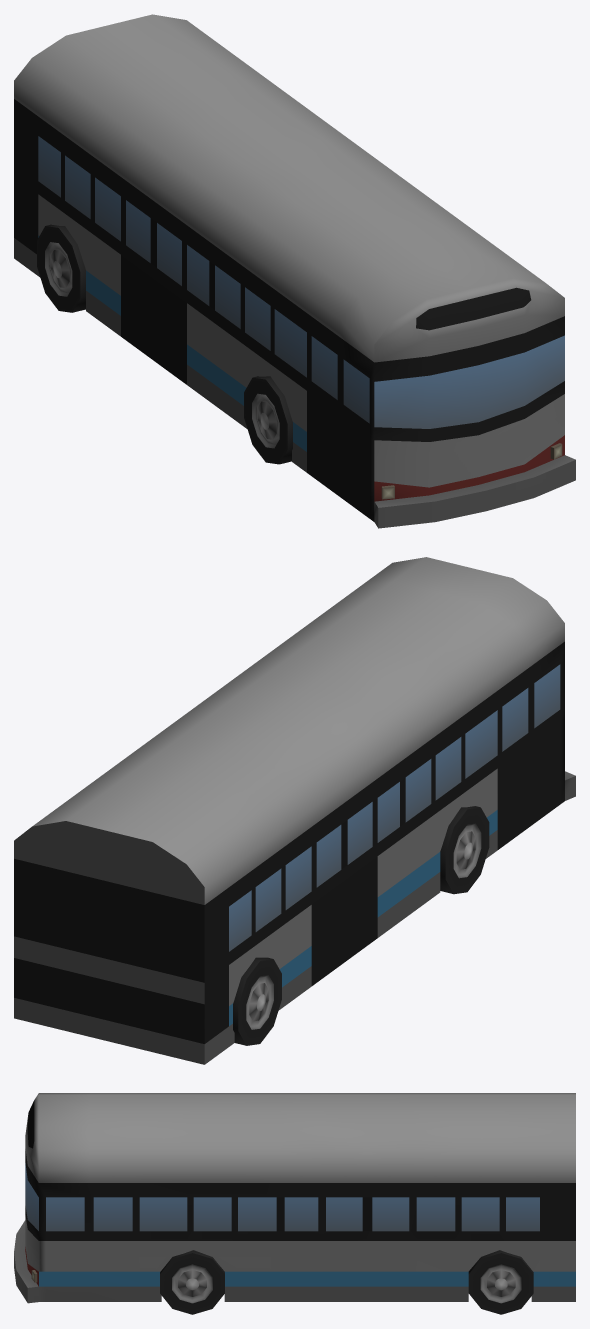
The model's file is vehicles-buses-trains-city-bus_v1.fbx.
3 views of the same model, one above another, from view 1: azimuth 30°, elevation 25°; view 2: azimuth 150°, elevation 25°; view 3: azimuth 270°, elevation 25° (orthographic). The views are drawn at different scales.
Parts seen in each view (by area): view 1: City Bus; view 2: City Bus; view 3: City Bus.
Part boxes in pixels (left/top/right/bottom): City Bus: left=14, top=14, right=575, bottom=528; City Bus: left=14, top=557, right=575, bottom=1064; City Bus: left=14, top=1093, right=575, bottom=1314.
Bounding box in the file's own units: 3.81 × 3.94 × 12.
